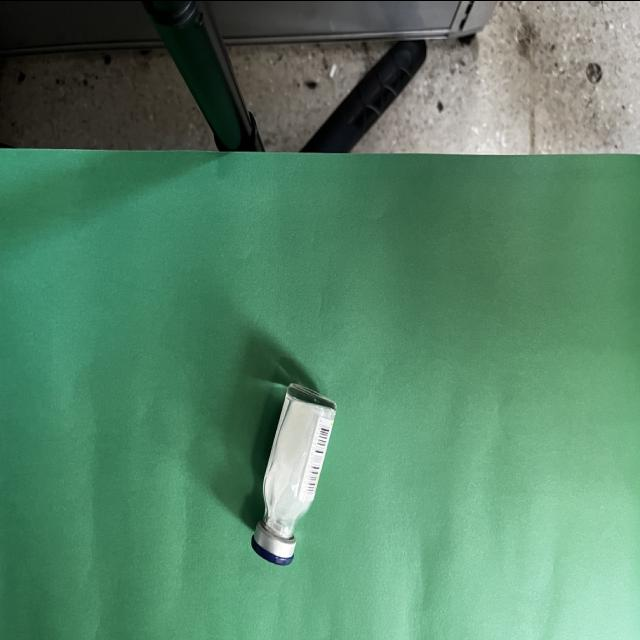Vials: (252, 382, 336, 564)
